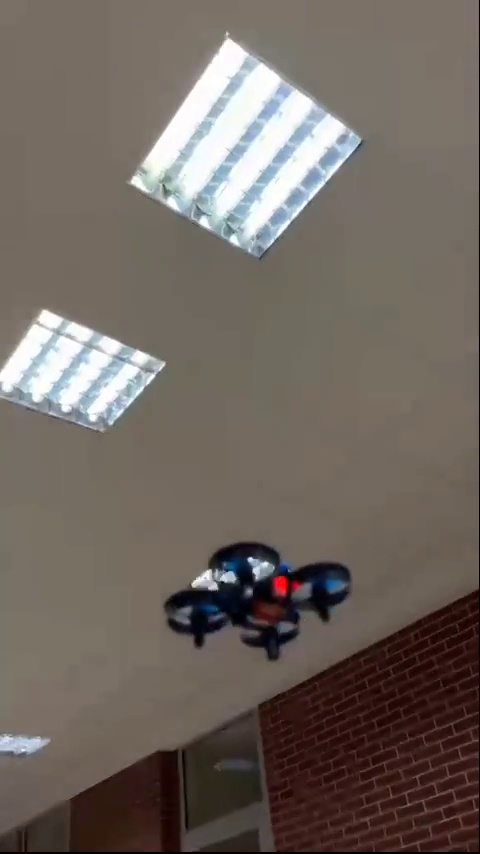drone: (169, 538, 349, 655)
